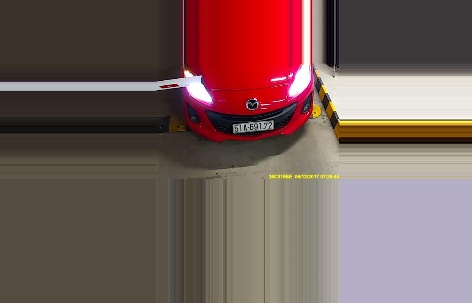plate: (227, 119, 275, 134)
